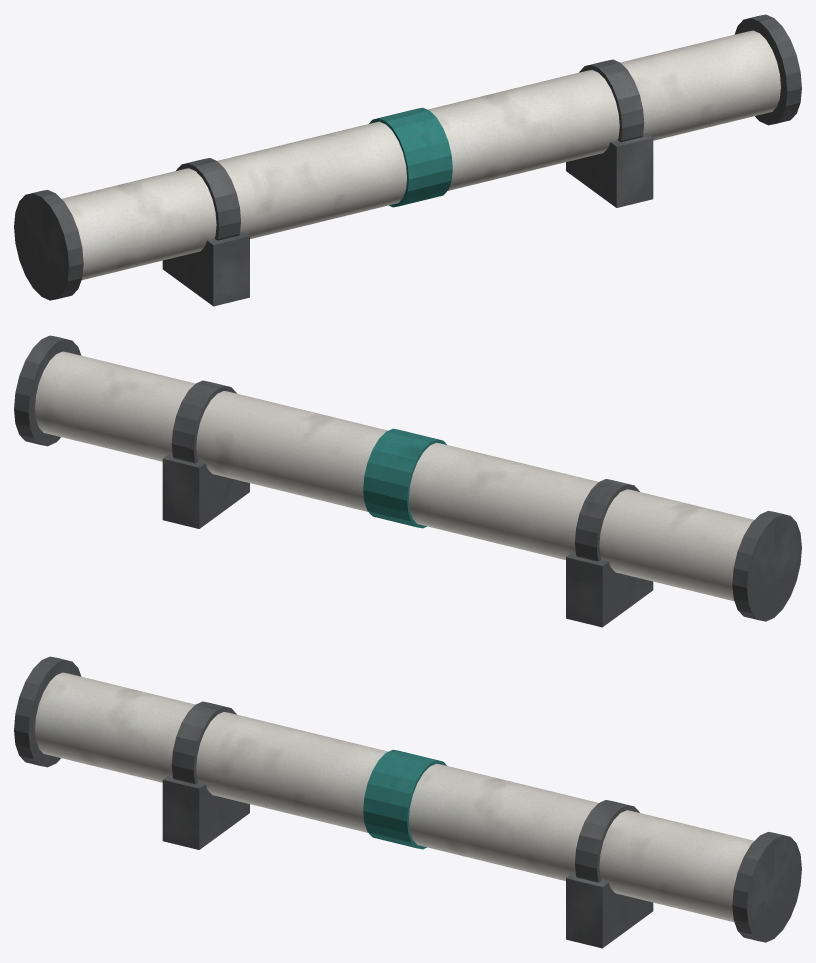
File: pipe-straight.glb
The picture shows the model from 3 angles, top to bottom: view 1: azimuth 30°, elevation 25°; view 2: azimuth 150°, elevation 25°; view 3: azimuth 330°, elevation 25°; orthographic projection.
Visible parts, largest first — view 1: PipeStraight_white, PipeStraight_gunmetal, PipeStraight_teal; view 2: PipeStraight_white, PipeStraight_gunmetal, PipeStraight_teal; view 3: PipeStraight_white, PipeStraight_gunmetal, PipeStraight_teal.
Part boxes in pixels (x1,y1,x2,y2): PipeStraight_white: [62, 30, 780, 279]; PipeStraight_gunmetal: [14, 14, 801, 306]; PipeStraight_teal: [369, 107, 452, 207]; PipeStraight_white: [35, 351, 753, 600]; PipeStraight_gunmetal: [14, 335, 801, 627]; PipeStraight_teal: [363, 428, 446, 528]; PipeStraight_white: [35, 672, 753, 921]; PipeStraight_gunmetal: [14, 656, 801, 948]; PipeStraight_teal: [363, 749, 446, 849].
Size of the model in its own units: 2 by 0.33 by 0.26.
3 materials, 3 textured.
